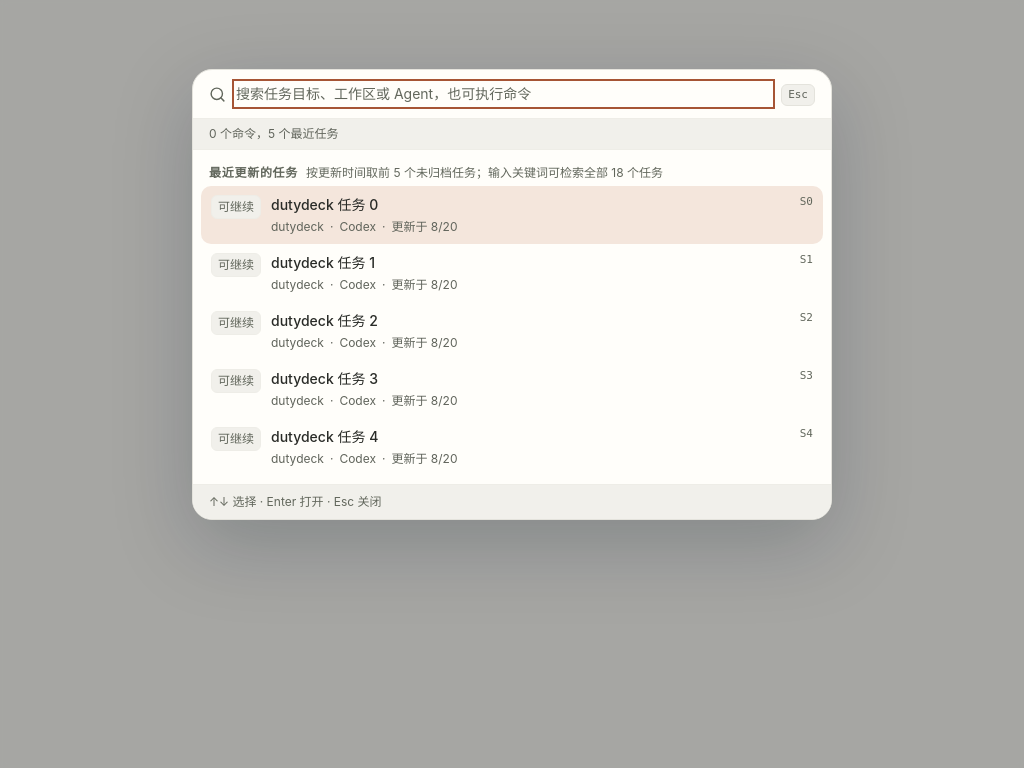
Test: CommandPalette 任务行信息与全量性 › 输入关键词后展示全部匹配任务，不截断为最近若干条
Expected: the number of options is 5, [201,186,823,244]; [201,244,823,302]; [201,302,823,360]; [201,360,823,418]; [201,418,823,476]
Type "dutydeck" into the dropdown named "搜索任务与命令" at (504, 94), box [236,83,771,105]
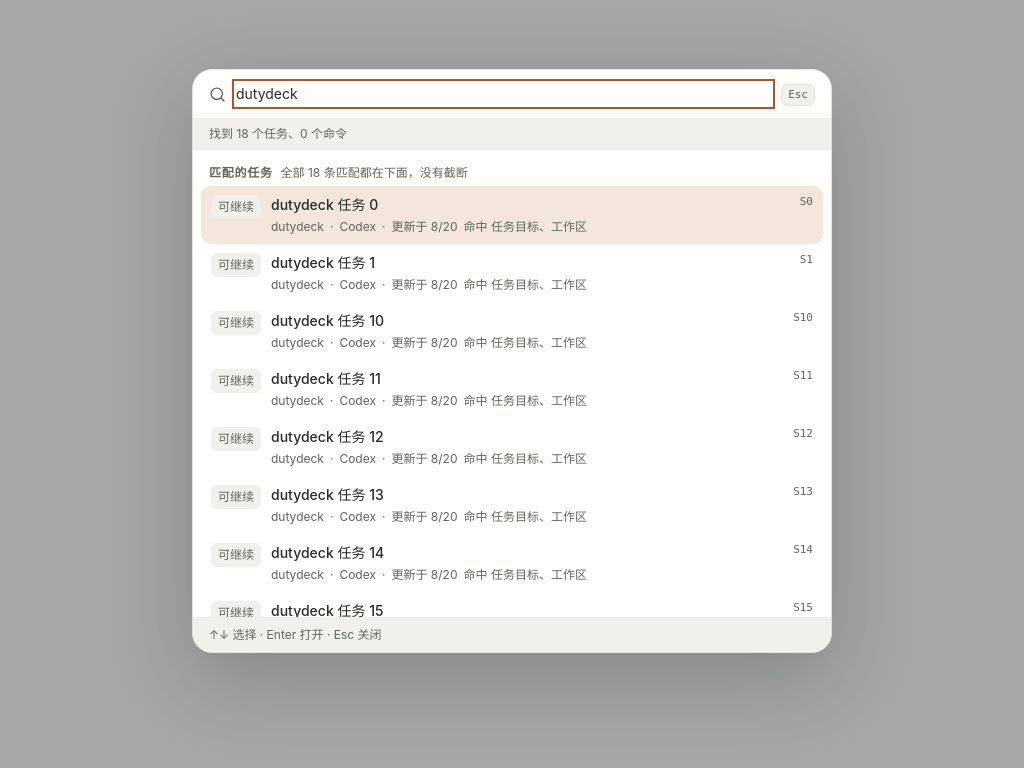
Expected: the text "全部 18 条匹配都在下面，没有截断" is shown, [281,165,468,180]
